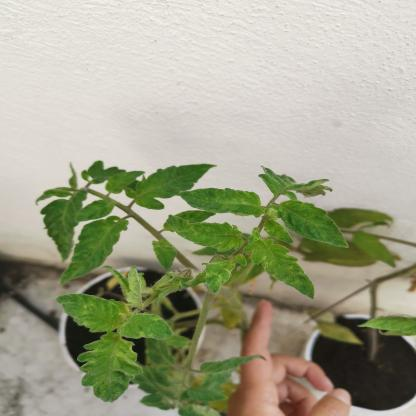T_L_R: (78, 332, 144, 404), (244, 240, 316, 299), (280, 201, 349, 249), (167, 216, 244, 253), (57, 294, 128, 333), (180, 189, 267, 219), (118, 313, 175, 341), (205, 259, 237, 296), (265, 221, 294, 245)
